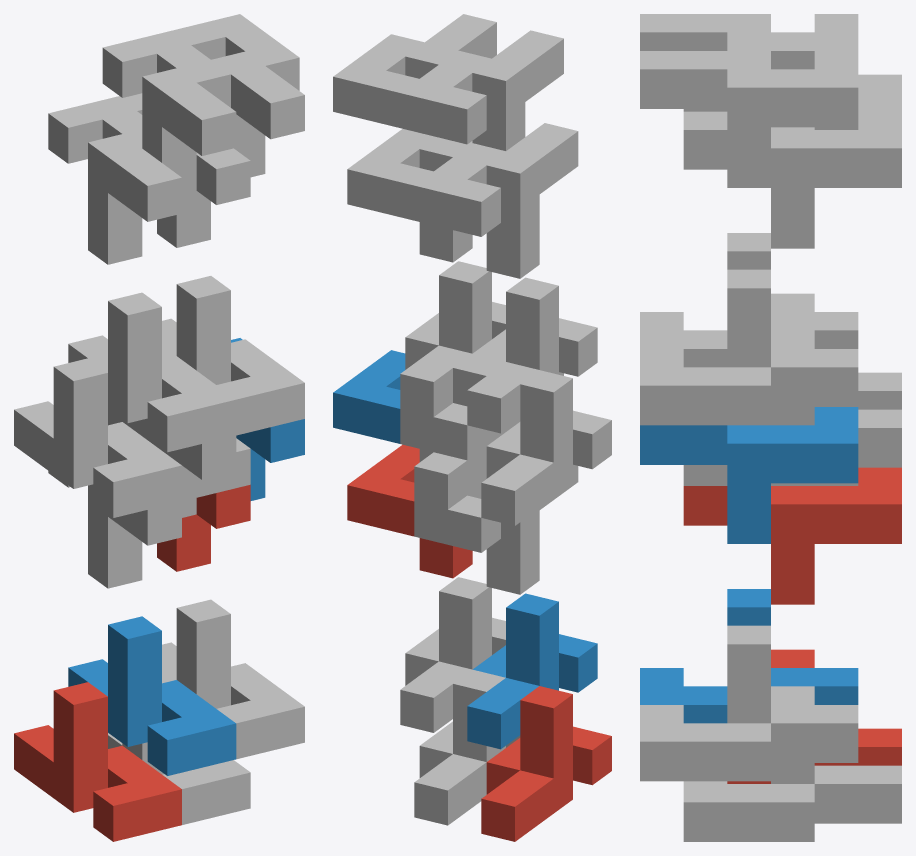
The model's file is tiling.obj.
3 renders of one model, left to right at view 1: azimuth 30°, elevation 25°; view 2: azimuth 150°, elevation 25°; view 3: azimuth 270°, elevation 25°, orthographic. The views are drawn at different scales.
Parts seen in each view (by area): view 1: copy_1_domain_3, copy_1_domain_1, copy_1_domain_4, copy_1_domain_2, copy_2_domain_3, copy_2_domain_4, copy_1_domain_6, copy_1_domain_8, copy_2_domain_8, copy_2_domain_1, copy_2_domain_7, copy_1_domain_5 (+4 smaller); view 2: copy_2_domain_3, copy_2_domain_4, copy_1_domain_3, copy_1_domain_1, copy_1_domain_4, copy_1_domain_2, copy_1_domain_6, copy_1_domain_8, copy_2_domain_8, copy_2_domain_7, copy_1_domain_5, copy_2_domain_1 (+4 smaller); view 3: copy_1_domain_6, copy_1_domain_8, copy_2_domain_8, copy_2_domain_6, copy_1_domain_5, copy_2_domain_7, copy_2_domain_5, copy_2_domain_4, copy_1_domain_2, copy_1_domain_4, copy_1_domain_7, copy_1_domain_1 (+3 smaller).
Boxes of the visible parts, box(x1,y1,x2,y2) form: copy_1_domain_3: box(14, 358, 181, 517); copy_1_domain_1: box(14, 682, 181, 841); copy_1_domain_4: box(68, 292, 236, 452); copy_1_domain_2: box(68, 616, 236, 775); copy_2_domain_3: box(48, 96, 181, 264); copy_2_domain_4: box(102, 31, 236, 193); copy_1_domain_6: box(162, 599, 304, 759); copy_1_domain_8: box(162, 276, 304, 435); copy_2_domain_8: box(171, 14, 304, 177); copy_2_domain_1: box(48, 471, 181, 588); copy_2_domain_7: box(117, 93, 250, 247); copy_1_domain_5: box(108, 669, 250, 824); copy_2_domain_3: box(414, 123, 578, 278); copy_2_domain_4: box(400, 30, 563, 150); copy_1_domain_3: box(481, 370, 611, 525); copy_1_domain_1: box(481, 686, 611, 841); copy_1_domain_4: box(467, 277, 597, 433); copy_1_domain_2: box(467, 593, 597, 749); copy_1_domain_6: box(400, 577, 505, 732); copy_1_domain_8: box(400, 261, 505, 416); copy_2_domain_8: box(333, 14, 496, 127); copy_2_domain_7: box(347, 129, 472, 262); copy_1_domain_5: box(414, 669, 520, 825); copy_2_domain_1: box(414, 464, 578, 594); copy_1_domain_6: box(640, 625, 858, 781); copy_1_domain_8: box(640, 269, 858, 425); copy_2_domain_8: box(640, 51, 858, 187); copy_2_domain_6: box(640, 407, 858, 543); copy_1_domain_5: box(683, 686, 901, 841); copy_2_domain_7: box(683, 111, 901, 248); copy_2_domain_5: box(683, 467, 901, 604); copy_2_domain_4: box(640, 14, 858, 69); copy_1_domain_2: box(640, 589, 858, 723); copy_1_domain_4: box(640, 233, 858, 367); copy_1_domain_7: box(683, 330, 901, 485); copy_1_domain_1: box(727, 649, 901, 783).
Size of the model in its own units: 6 by 20 by 6.
